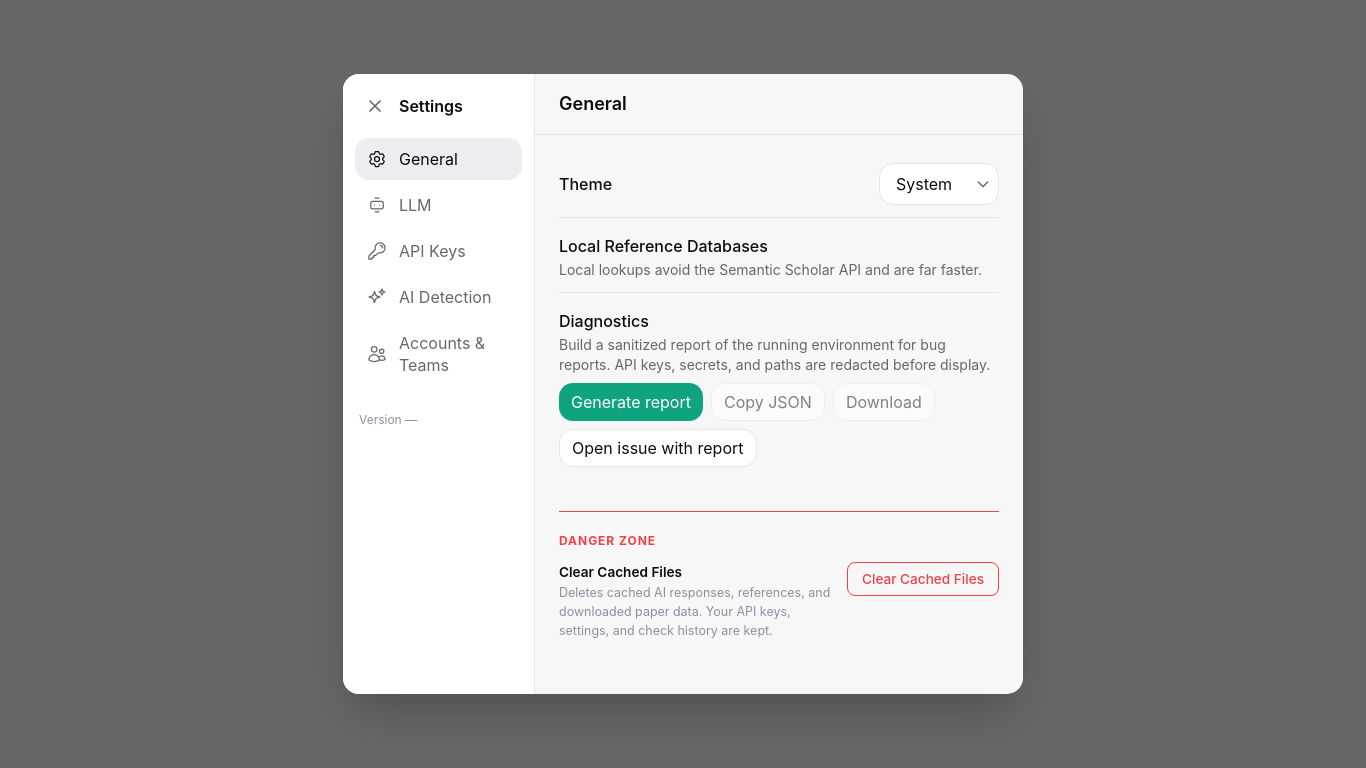
Test: SettingsPanel Semantic Scholar key storage › shows server environment keys as active for all sessions in multi-user mode
This screenshot has width=1366, height=768.
Click the button "API Keys".
click(438, 251)  # box x1=355 y1=230 x2=522 y2=272
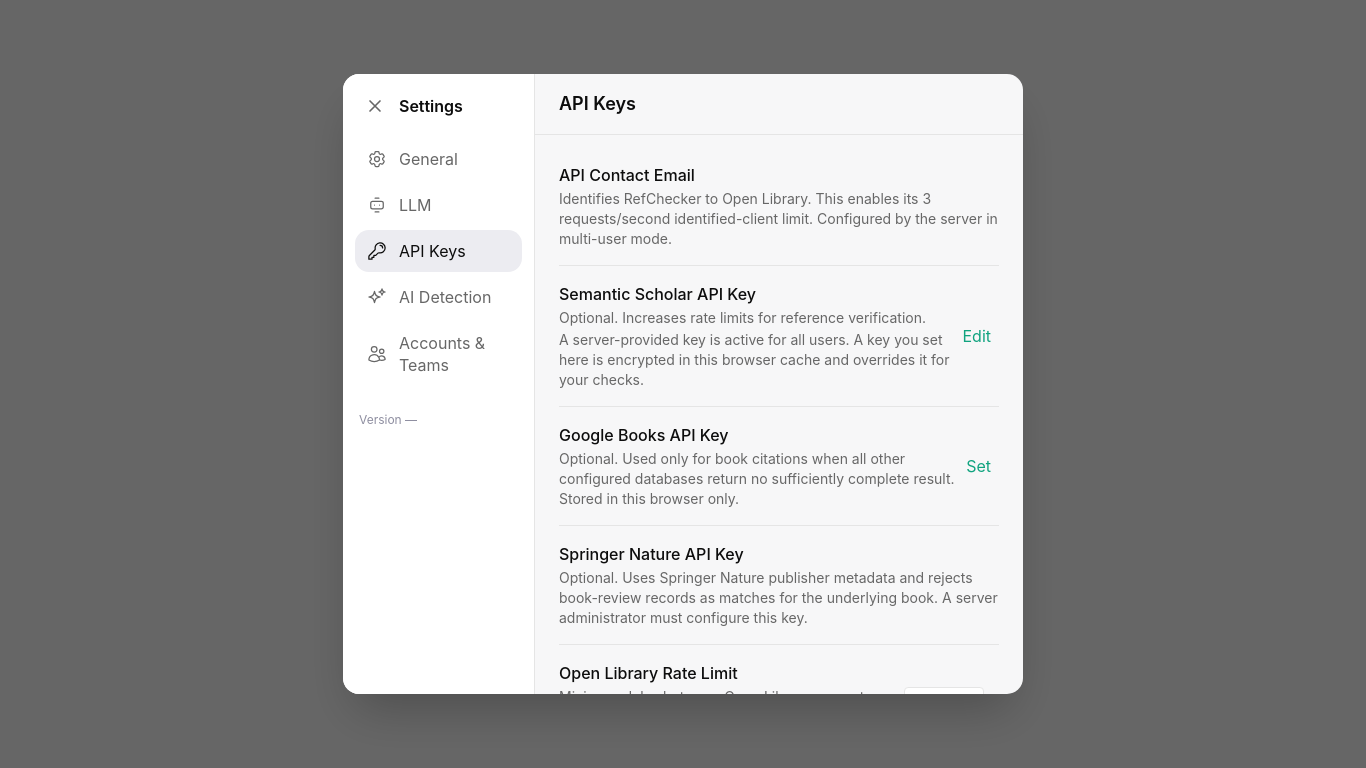
Now the text "server-provided key is active for all users" is shown 2 times
Now the number of buttons "Edit" is 2
